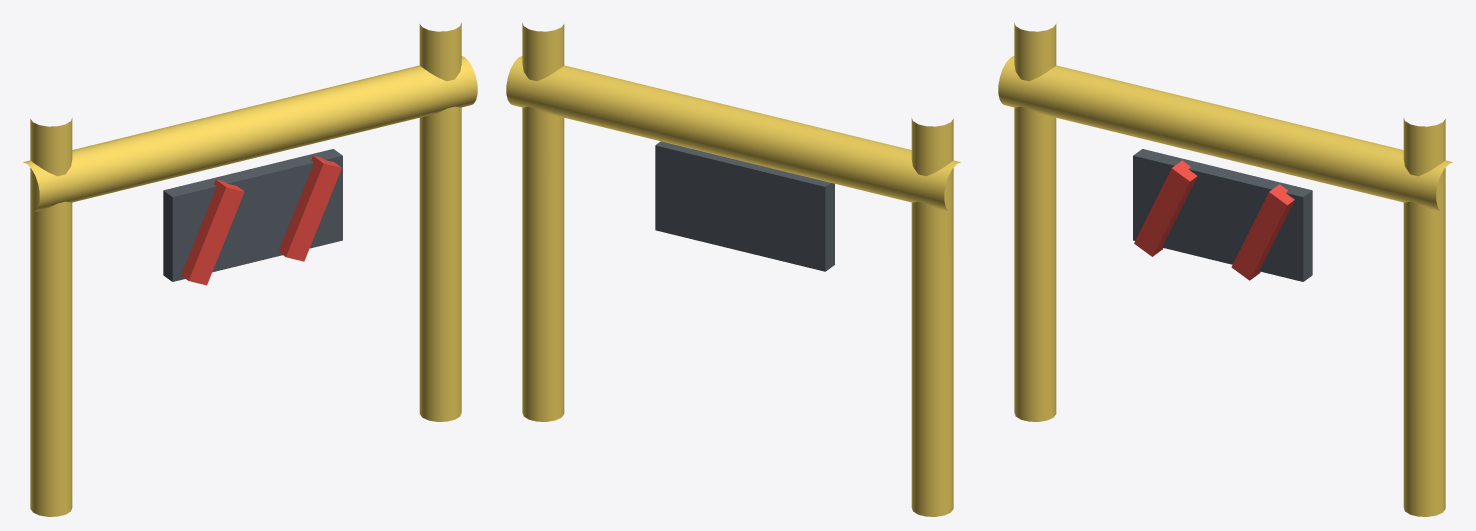
The model's file is duck-gate.glb.
The picture shows the model from 3 angles, left to right: view 1: azimuth 30°, elevation 25°; view 2: azimuth 150°, elevation 25°; view 3: azimuth 330°, elevation 25°; orthographic projection.
Visible parts, largest first — view 1: low-crossbar, left-post, right-post, hanging-sign, warning-stripe-1, warning-stripe-2; view 2: low-crossbar, hanging-sign, left-post, right-post; view 3: low-crossbar, right-post, left-post, hanging-sign, warning-stripe-2, warning-stripe-1.
Part boxes in pixels (bbox=[...]): low-crossbar: bbox=[23, 56, 477, 211]; left-post: bbox=[30, 118, 72, 516]; right-post: bbox=[419, 23, 461, 421]; hanging-sign: bbox=[163, 149, 342, 281]; warning-stripe-1: bbox=[181, 179, 244, 285]; warning-stripe-2: bbox=[278, 156, 341, 261]; low-crossbar: bbox=[506, 56, 960, 211]; hanging-sign: bbox=[655, 141, 834, 271]; left-post: bbox=[911, 118, 953, 516]; right-post: bbox=[522, 23, 564, 421]; low-crossbar: bbox=[998, 56, 1452, 211]; right-post: bbox=[1403, 118, 1445, 516]; left-post: bbox=[1014, 23, 1056, 421]; hanging-sign: bbox=[1133, 149, 1312, 281]; warning-stripe-2: bbox=[1231, 184, 1294, 280]; warning-stripe-1: bbox=[1134, 160, 1197, 256].
Size of the model in its own units: 1.08 by 0.92 by 0.1367.
